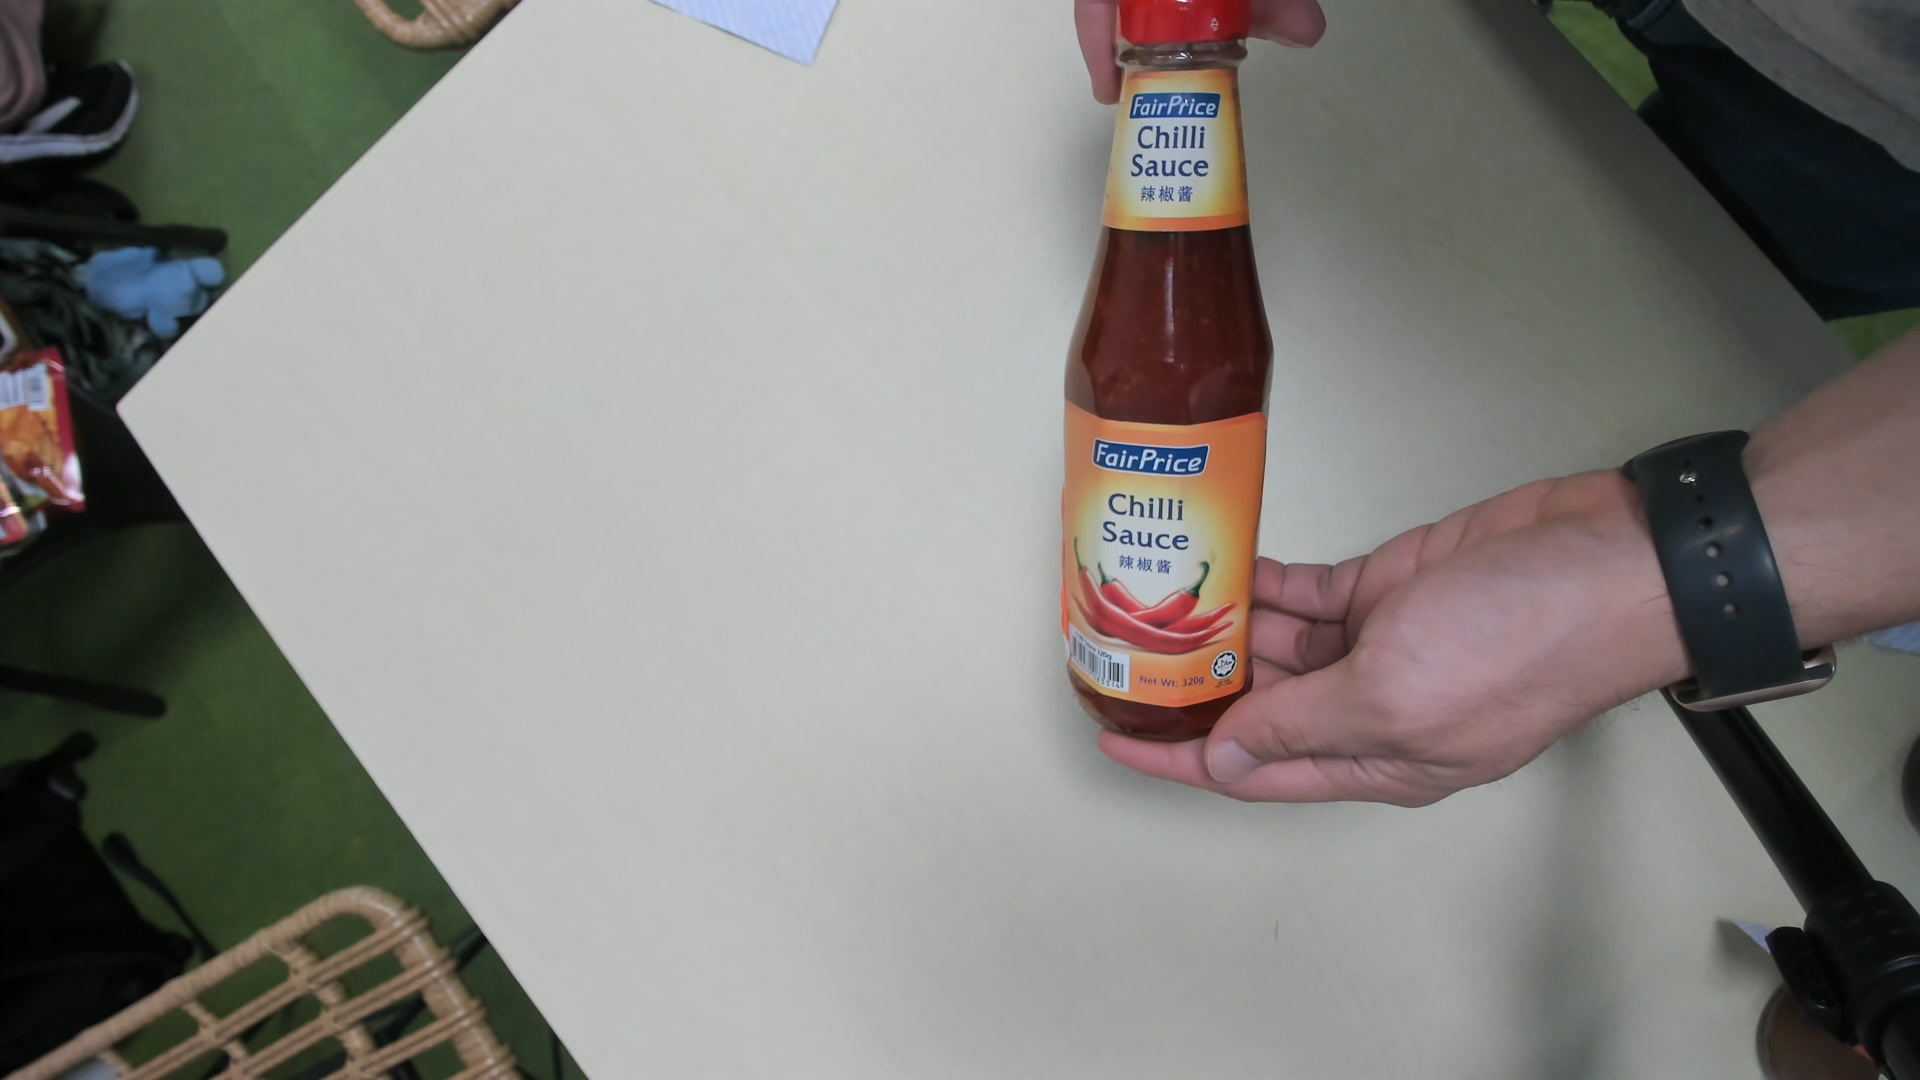KetchupChillSauce_300-399g_Halal_NonHealthy: (1054, 5, 1275, 745)
